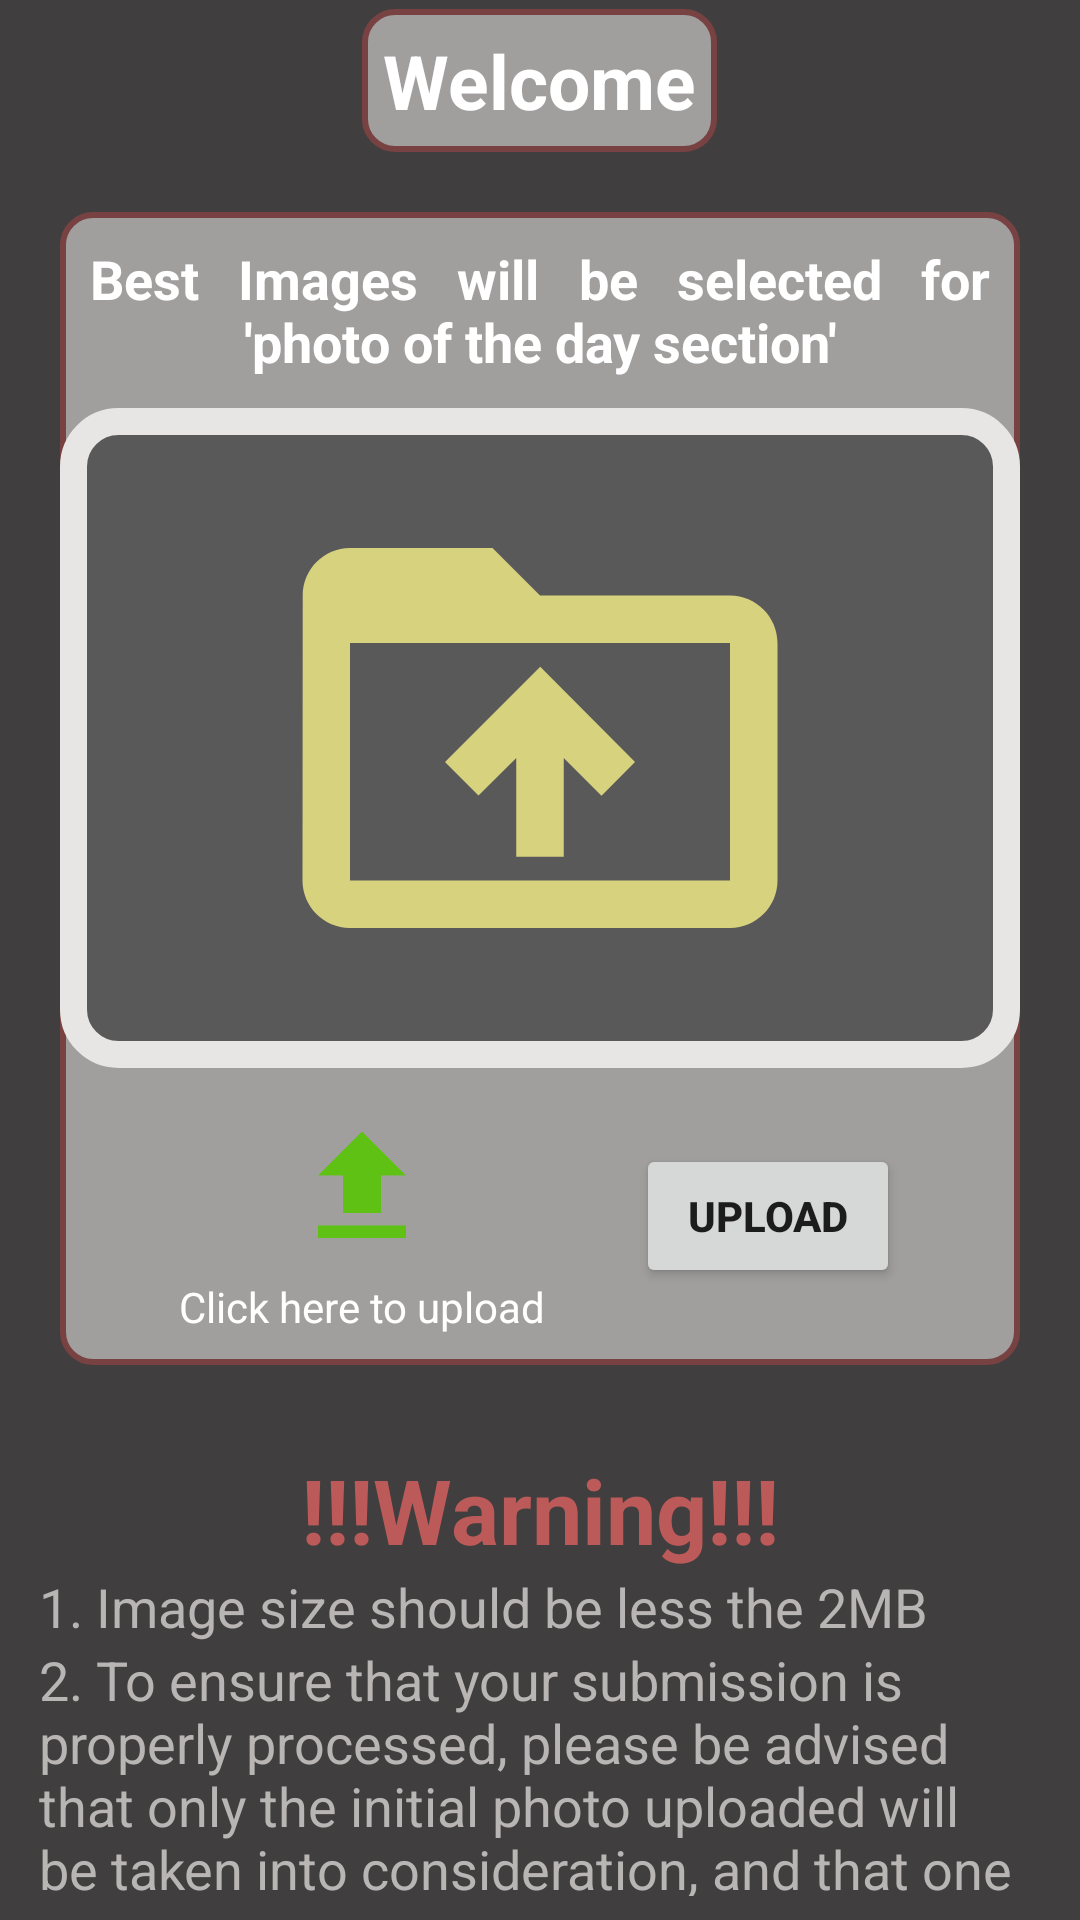

Screen size 1080 x 1920. Icon name, then its box in pixels as (x1, y1, x2, y2):
upload iamge: (318, 1132, 406, 1238)
